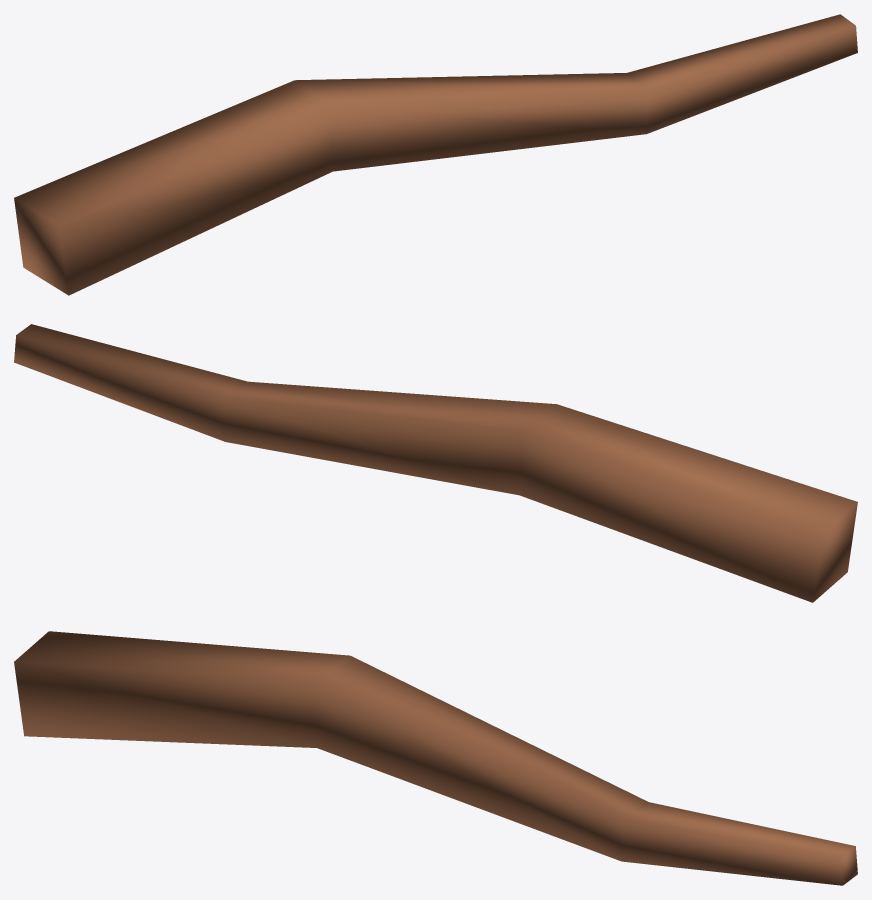
The model's file is Stick_Brown_3.fbx.
3 views of the same model, one above another, from view 1: azimuth 30°, elevation 25°; view 2: azimuth 150°, elevation 25°; view 3: azimuth 330°, elevation 25° (orthographic).
Visible parts, largest first — view 1: Stick_Brown_3; view 2: Stick_Brown_3; view 3: Stick_Brown_3.
Boxes of the visible parts, <box> form: Stick_Brown_3: <box>14,14,857,295</box>; Stick_Brown_3: <box>14,324,857,602</box>; Stick_Brown_3: <box>14,631,857,885</box>.
Bounding box in the file's own units: 186 × 24.13 × 20.
